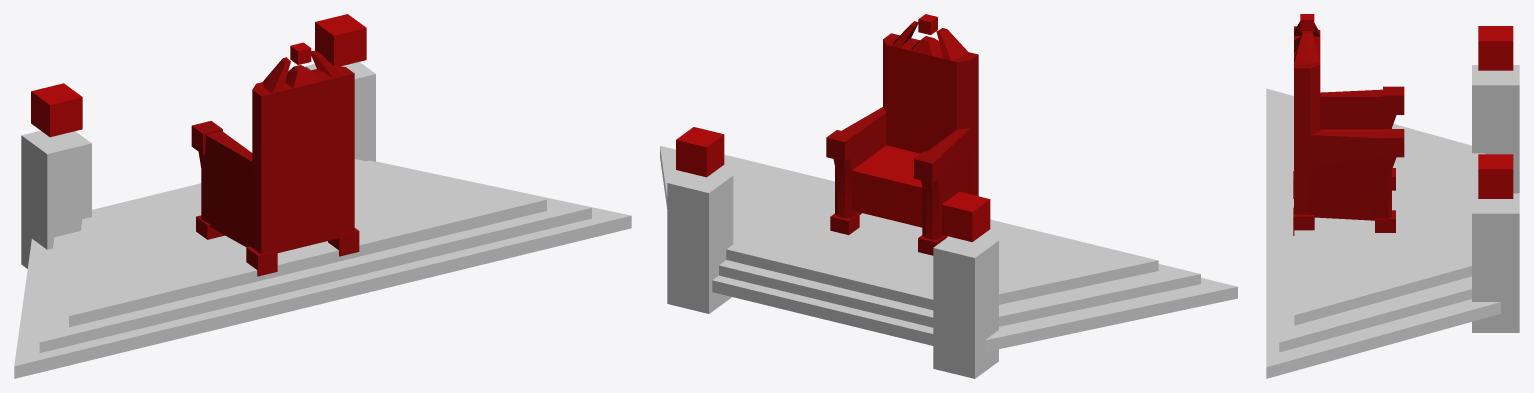
The model's file is throne_box_king.fbx.
The picture shows the model from 3 angles, left to right: view 1: azimuth 30°, elevation 25°; view 2: azimuth 150°, elevation 25°; view 3: azimuth 270°, elevation 25°; orthographic projection. The views are drawn at different scales.
Parts seen in each view (by area): view 1: polySurface11; view 2: polySurface11; view 3: polySurface11.
Boxes of the visible parts, box(x1,y1,x2,y2) form: polySurface11: box(14, 14, 631, 378); polySurface11: box(660, 14, 1237, 378); polySurface11: box(1266, 14, 1519, 378).
Bounding box in the file's own units: 28.01 × 11.33 × 10.75.
